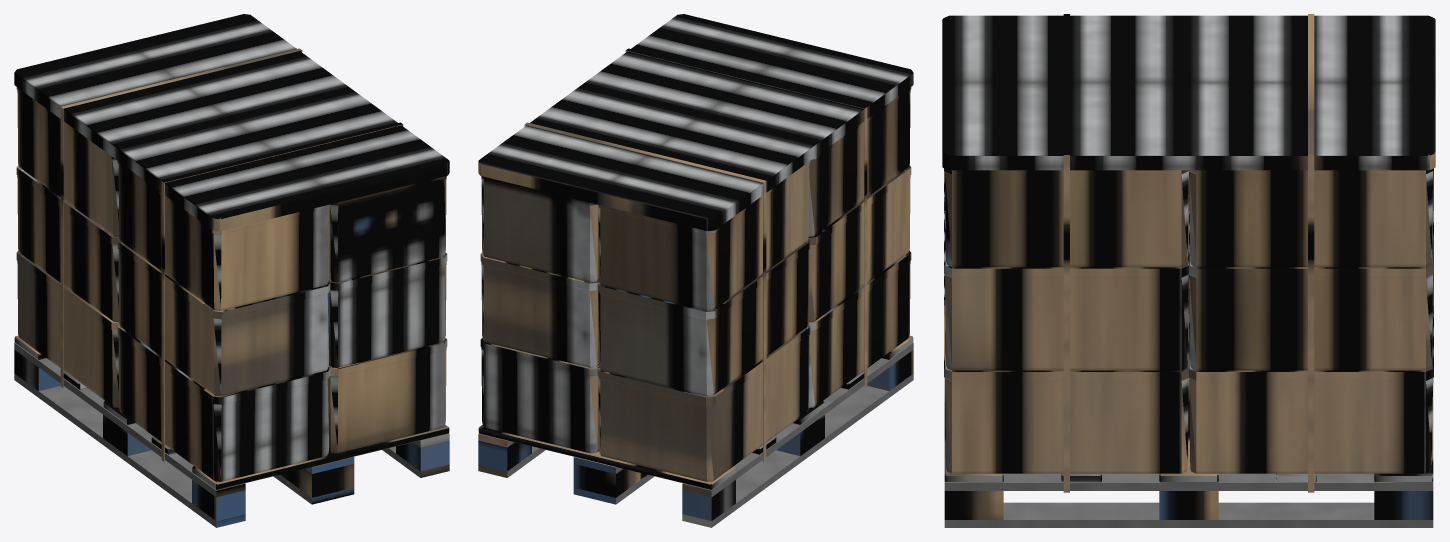
File: PalletLoad_SmallLoadCarriers.fbx
The picture shows the model from 3 angles, left to right: view 1: azimuth 30°, elevation 25°; view 2: azimuth 150°, elevation 25°; view 3: azimuth 270°, elevation 25°; orthographic projection. The views are drawn at different scales.
Parts seen in each view (by area): view 1: PalletLoad_SmallLoadCarriers_LOD0; view 2: PalletLoad_SmallLoadCarriers_LOD0; view 3: PalletLoad_SmallLoadCarriers_LOD0.
Boxes of the visible parts, x1,y1,x2,y2 form: PalletLoad_SmallLoadCarriers_LOD0: (14, 14, 449, 527); PalletLoad_SmallLoadCarriers_LOD0: (478, 14, 913, 527); PalletLoad_SmallLoadCarriers_LOD0: (942, 14, 1435, 527).
Size of what is drawn, in the model's own units: 0.819 by 1.02 by 1.21.
